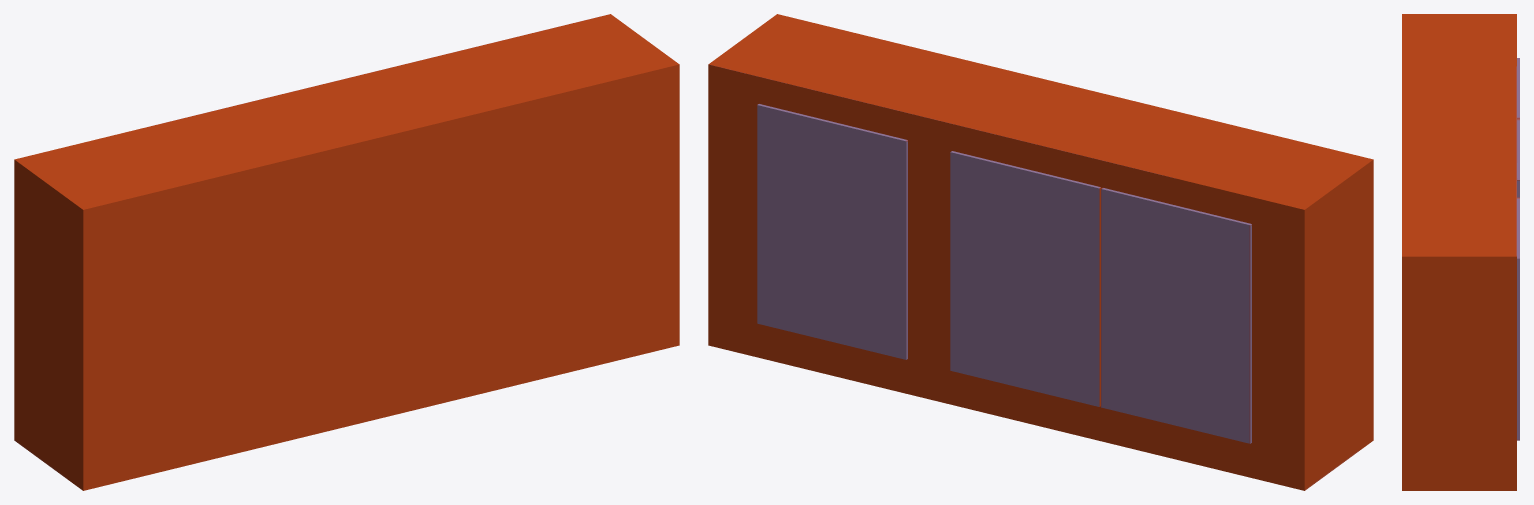
Rendered from izqArriba.obj.
3 renders of one model, left to right at view 1: azimuth 30°, elevation 25°; view 2: azimuth 150°, elevation 25°; view 3: azimuth 270°, elevation 25°, orthographic. The views are drawn at different scales.
Visible parts, largest first — view 1: Cube.058_Cube.036; view 2: Cube.058_Cube.036; view 3: Cube.058_Cube.036.
Boxes of the visible parts, x1,y1,x2,y2 form: Cube.058_Cube.036: [14, 14, 679, 490]; Cube.058_Cube.036: [708, 14, 1373, 490]; Cube.058_Cube.036: [1402, 14, 1519, 490].
Size of the model in its own units: 18.45 by 8.31 by 3.79.
1 material, 1 textured.
